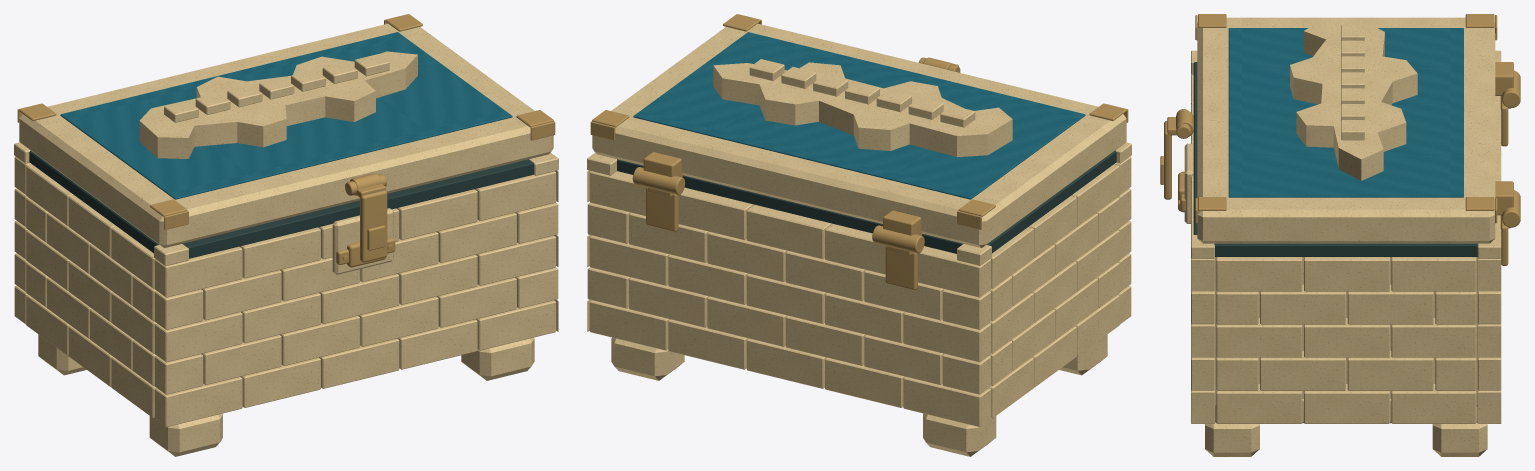
File: malta.glb
The picture shows the model from 3 angles, left to right: view 1: azimuth 30°, elevation 25°; view 2: azimuth 150°, elevation 25°; view 3: azimuth 270°, elevation 25°; orthographic projection. The views are drawn at different scales.
Visible parts, largest first — view 1: Lid / polished slab, Harbour / water inlay, Peninsula / angular bastions, Seam / long, Ashlar / long.048, Ashlar / long.024, Ashlar / long, Ashlar / long.051, Ashlar / long.049, Ashlar / long.052, Ashlar / long.004, Ashlar / long.014 (+50 smaller); view 2: Lid / polished slab, Harbour / water inlay, Peninsula / angular bastions, Seam / long.001, Ashlar / long.056, Ashlar / long.030, Ashlar / long.006, Ashlar / long.057, Ashlar / long.010, Ashlar / long.020, Ashlar / long.034, Ashlar / long.044 (+54 smaller); view 3: Harbour / water inlay, Lid / polished slab, Peninsula / angular bastions, Seam / side.001, Ashlar / side.031, Ashlar / side.032, Ashlar / side.033, Ashlar / side.026, Ashlar / side.012, Ashlar / side.017, Ashlar / side.019, Ashlar / side.025 (+42 smaller).
Part boxes in pixels (bbox=[...]): Lid / polished slab: bbox=[19, 23, 553, 248]; Harbour / water inlay: bbox=[60, 32, 512, 199]; Peninsula / angular bastions: bbox=[139, 51, 417, 158]; Seam / long: bbox=[182, 159, 533, 258]; Ashlar / long.048: bbox=[154, 246, 242, 297]; Ashlar / long.024: bbox=[154, 312, 242, 362]; Ashlar / long: bbox=[154, 377, 242, 427]; Ashlar / long.051: bbox=[396, 189, 477, 240]; Ashlar / long.049: bbox=[239, 227, 320, 278]; Ashlar / long.052: bbox=[475, 171, 556, 220]; Ashlar / long.004: bbox=[476, 300, 556, 350]; Ashlar / long.014: bbox=[280, 316, 360, 365]; Lid / polished slab: bbox=[592, 23, 1126, 248]; Harbour / water inlay: bbox=[633, 32, 1085, 199]; Peninsula / angular bastions: bbox=[713, 62, 1012, 157]; Seam / long.001: bbox=[617, 159, 963, 253]; Ashlar / long.056: bbox=[746, 205, 832, 259]; Ashlar / long.030: bbox=[903, 312, 991, 362]; Ashlar / long.006: bbox=[903, 377, 991, 427]; Ashlar / long.057: bbox=[678, 187, 754, 240]; Ashlar / long.010: bbox=[589, 300, 669, 350]; Ashlar / long.020: bbox=[785, 316, 865, 365]; Ashlar / long.034: bbox=[589, 235, 669, 285]; Ashlar / long.044: bbox=[785, 251, 865, 301]; Harbour / water inlay: bbox=[1228, 28, 1463, 197]; Lid / polished slab: bbox=[1197, 17, 1495, 243]; Peninsula / angular bastions: bbox=[1290, 20, 1417, 180]; Seam / side.001: bbox=[1214, 243, 1477, 256]; Ashlar / side.031: bbox=[1216, 257, 1302, 291]; Ashlar / side.032: bbox=[1304, 257, 1389, 291]; Ashlar / side.033: bbox=[1391, 257, 1476, 291]; Ashlar / side.026: bbox=[1347, 284, 1433, 324]; Ashlar / side.012: bbox=[1347, 351, 1433, 390]; Ashlar / side.017: bbox=[1216, 318, 1302, 357]; Ashlar / side.019: bbox=[1391, 318, 1476, 357]; Ashlar / side.025: bbox=[1260, 284, 1345, 324].
Bounding box in the file's own units: 3.72 × 2.54 × 2.88.
4 materials, 2 textured.
